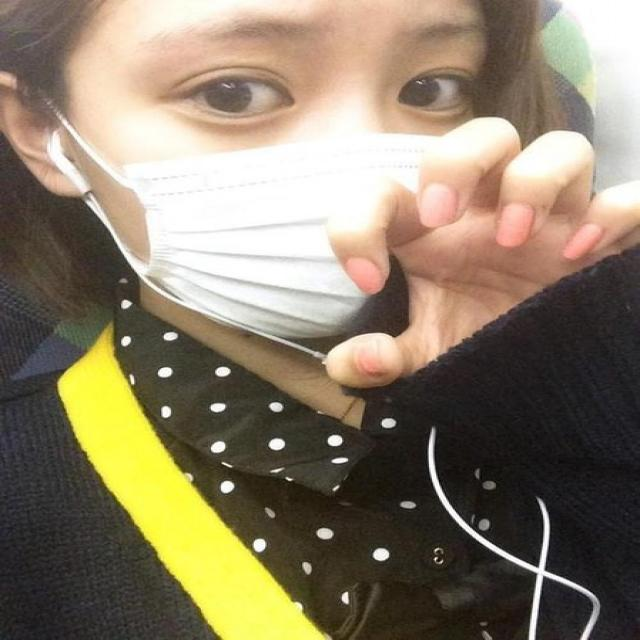mask: (100, 1, 512, 337)
